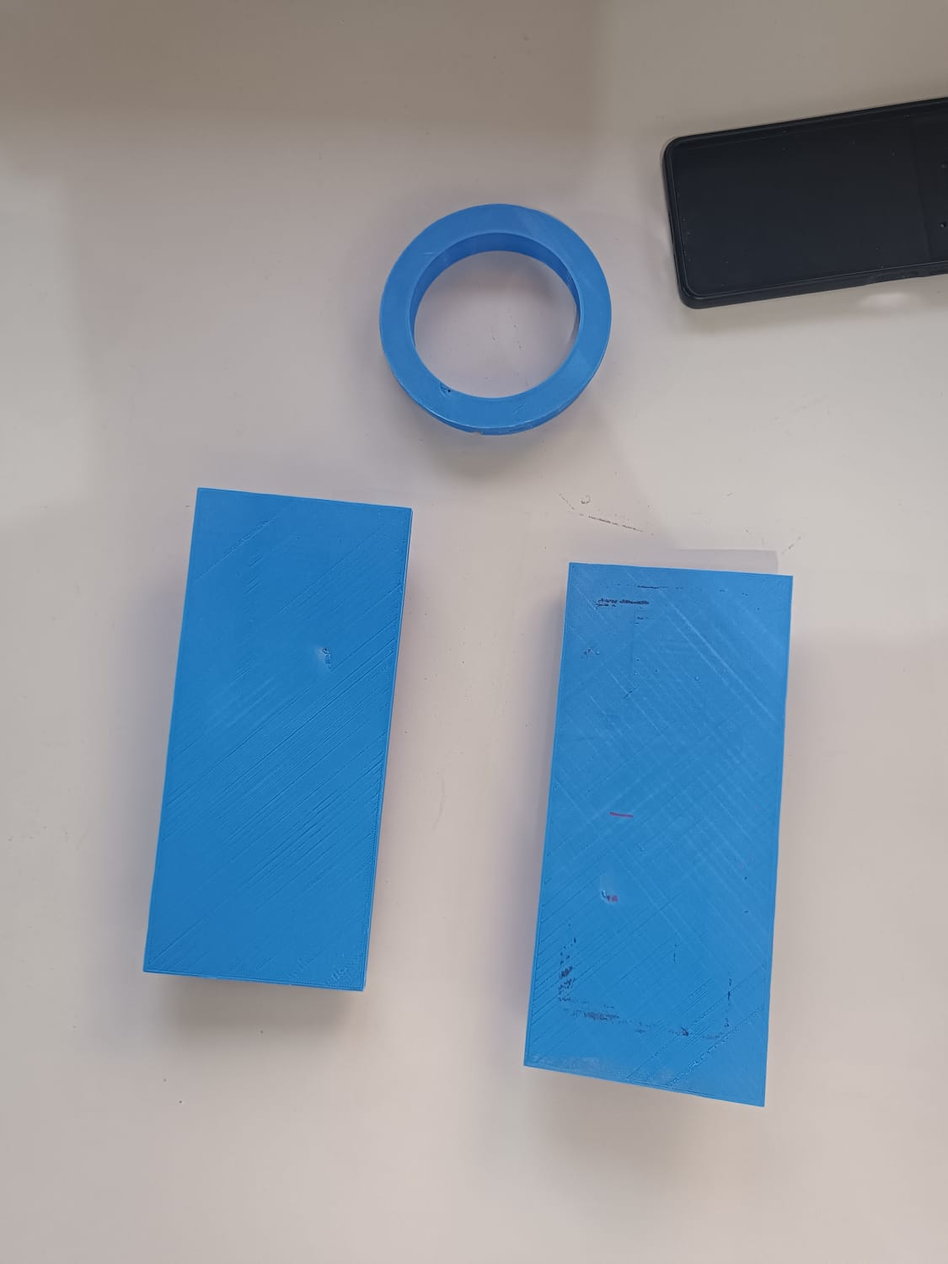Circle: (366, 194, 623, 444)
Rectangular: (514, 551, 810, 1118), (134, 475, 419, 1000)
